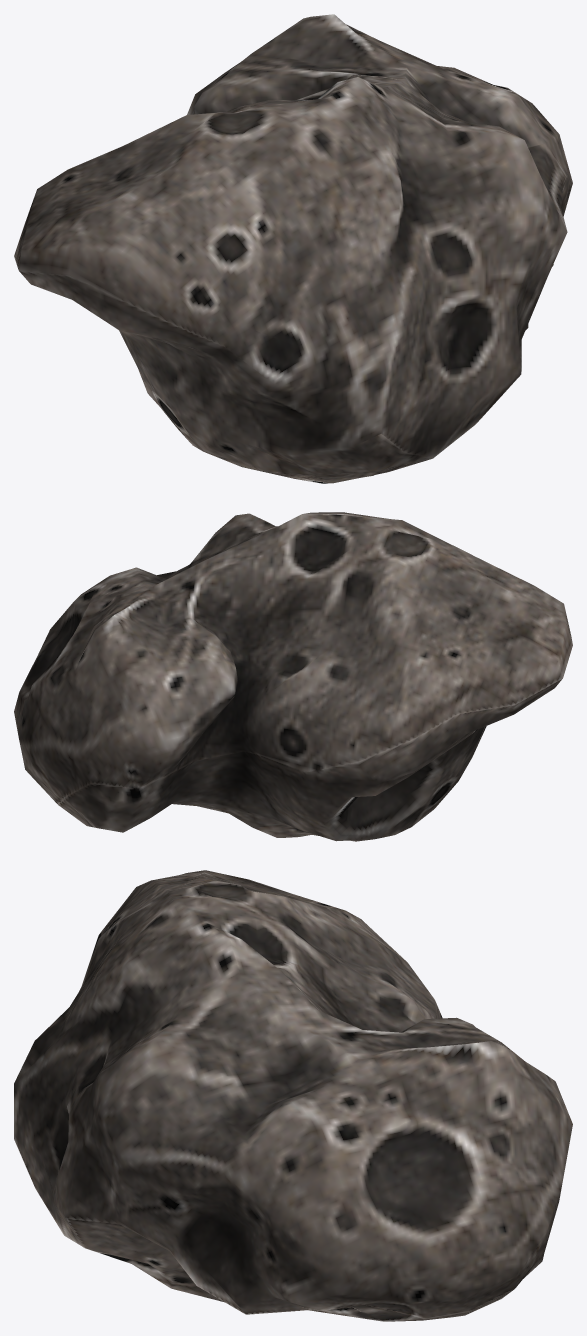
Rendered from prop_asteroid_03.FBX.
The picture shows the model from 3 angles, top to bottom: view 1: azimuth 30°, elevation 25°; view 2: azimuth 150°, elevation 25°; view 3: azimuth 270°, elevation 25°; orthographic projection. The views are drawn at different scales.
Visible parts, largest first — view 1: prop_asteroid_03; view 2: prop_asteroid_03; view 3: prop_asteroid_03.
Boxes of the visible parts, x1,y1,x2,y2 form: prop_asteroid_03: (14,14,572,483); prop_asteroid_03: (14,512,572,841); prop_asteroid_03: (14,870,572,1321).
Size of the model in its own units: 157 by 98.52 by 135.
